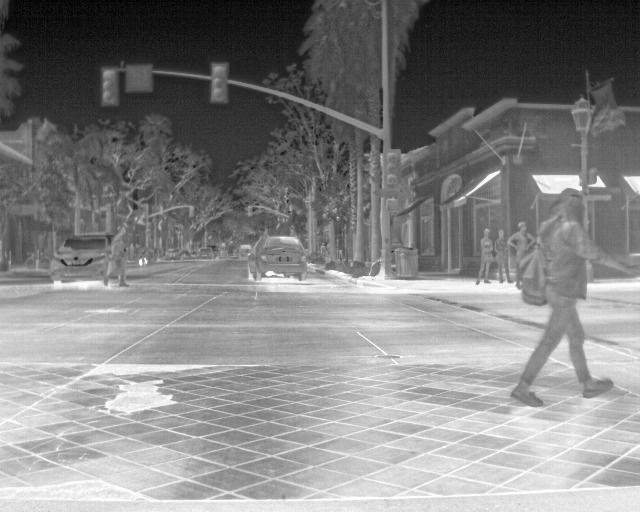bicycle: (50, 233, 115, 284), (244, 230, 307, 278), (161, 248, 180, 263)
empty: (507, 189, 637, 404), (101, 228, 127, 286), (473, 227, 494, 285), (509, 221, 536, 263), (492, 226, 510, 284)
